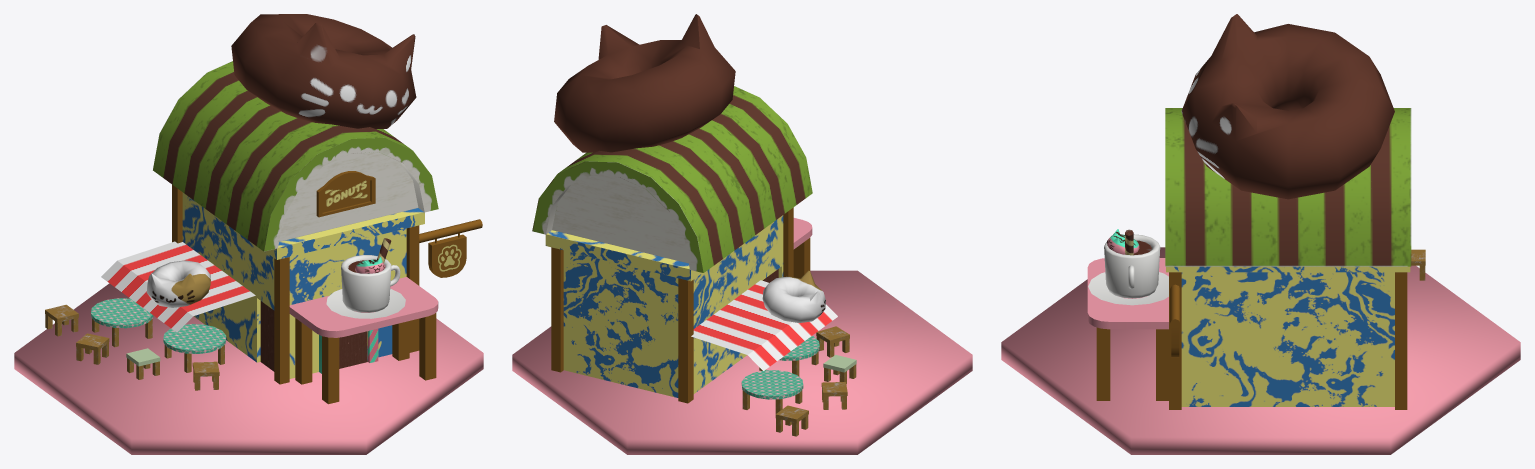
Rendered from HouseDonut.fbx.
The picture shows the model from 3 angles, left to right: view 1: azimuth 30°, elevation 25°; view 2: azimuth 150°, elevation 25°; view 3: azimuth 270°, elevation 25°; orthographic projection. The views are drawn at different scales.
Visible parts, largest first — view 1: HouseDonut; view 2: HouseDonut; view 3: HouseDonut.
Boxes of the visible parts, left/top/right/bottom form: HouseDonut: left=14, top=14, right=483, bottom=454; HouseDonut: left=512, top=14, right=972, bottom=454; HouseDonut: left=1001, top=14, right=1520, bottom=454.
Bounding box in the file's own units: 491 × 433 × 541.
Materials: 1 (1 with a texture image).
